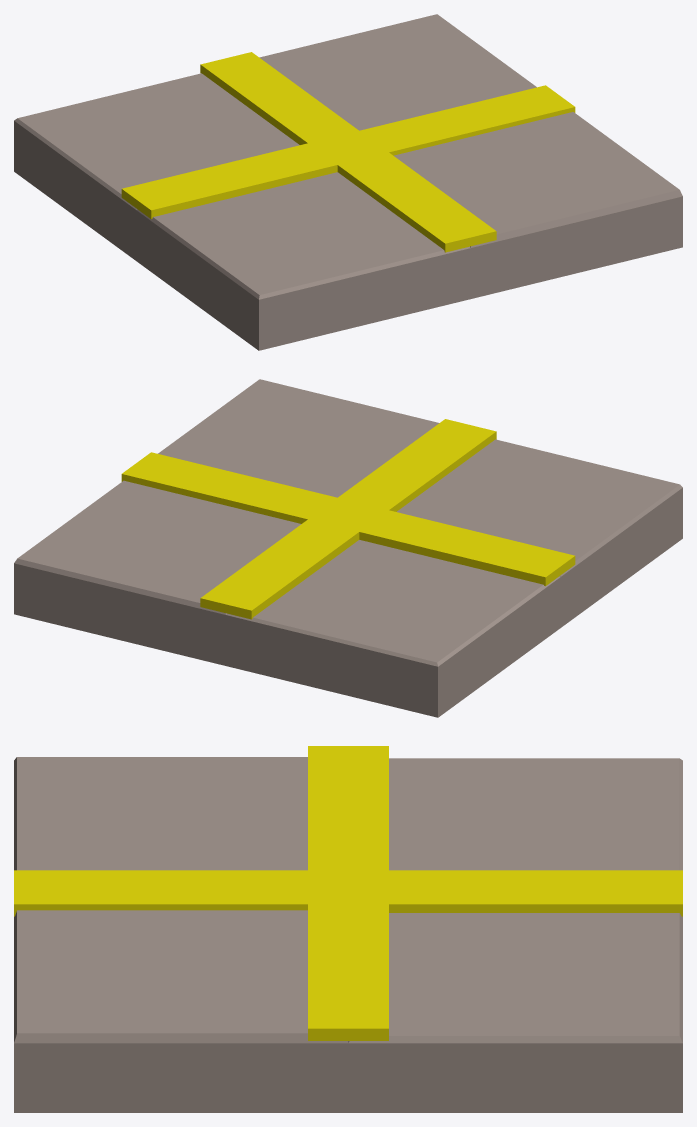
The model's file is 4way.fbx.
The picture shows the model from 3 angles, top to bottom: view 1: azimuth 30°, elevation 25°; view 2: azimuth 150°, elevation 25°; view 3: azimuth 270°, elevation 25°; orthographic projection. The views are drawn at different scales.
Parts seen in each view (by area): view 1: Plane.009, Plane.010, Plane.012; view 2: Plane.009, Plane.010, Plane.012; view 3: Plane.009, Plane.010, Plane.012.
Part boxes in pixels (bbox=[...]): Plane.009: bbox=[14, 14, 682, 350]; Plane.010: bbox=[200, 52, 496, 252]; Plane.012: bbox=[121, 85, 575, 219]; Plane.009: bbox=[14, 379, 682, 717]; Plane.010: bbox=[200, 419, 496, 619]; Plane.012: bbox=[121, 452, 575, 586]; Plane.009: bbox=[14, 757, 682, 1112]; Plane.010: bbox=[14, 870, 682, 916]; Plane.012: bbox=[308, 746, 388, 1040].
Size of the model in its own units: 200 by 27.79 by 200.
